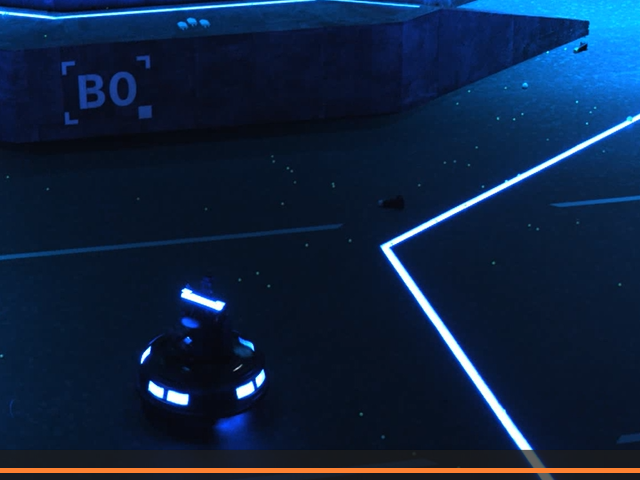rm: (132, 288, 269, 422)
